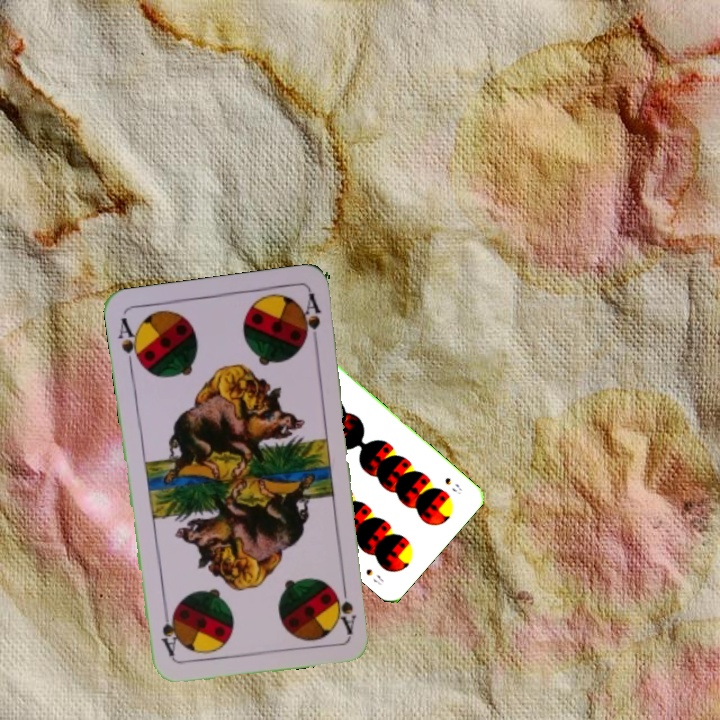S8: (441, 473, 464, 497)
SA: (114, 313, 145, 372), (338, 576, 359, 636)
